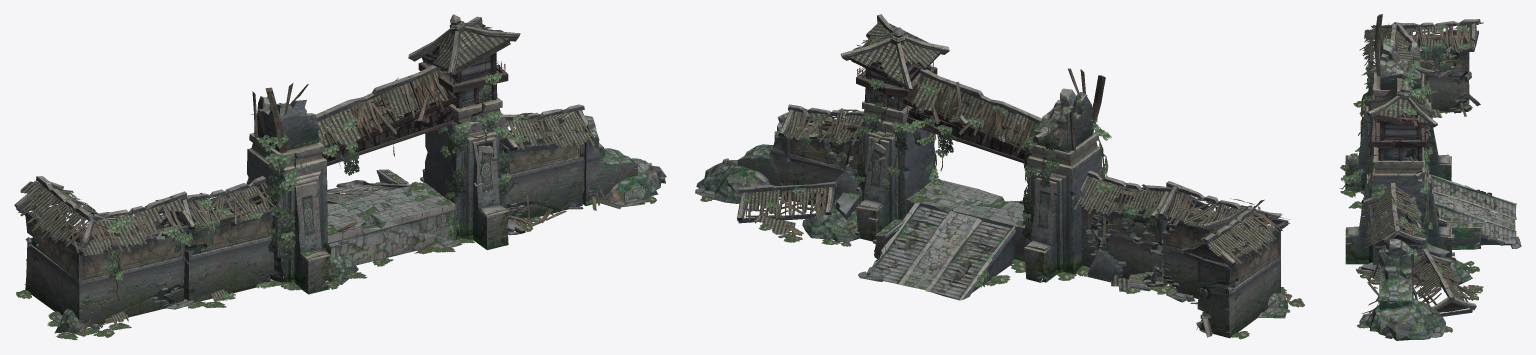
Rendered from Ruins_ALL.FBX.
The picture shows the model from 3 angles, left to right: view 1: azimuth 30°, elevation 25°; view 2: azimuth 150°, elevation 25°; view 3: azimuth 270°, elevation 25°; orthographic projection. The views are drawn at different scales.
Parts seen in each view (by area): view 1: Ruins_A, Ruins_B, Ruins_C; view 2: Ruins_A, Ruins_B, Ruins_C; view 3: Ruins_A, Ruins_B, Ruins_C.
Boxes of the visible parts, left/top/right/bottom form: Ruins_A: left=14, top=14, right=626, bottom=336; Ruins_B: left=50, top=113, right=666, bottom=336; Ruins_C: left=16, top=25, right=656, bottom=339; Ruins_A: left=737, top=14, right=1291, bottom=338; Ruins_B: left=695, top=110, right=1288, bottom=318; Ruins_C: left=700, top=29, right=1304, bottom=339; Ruins_A: left=1345, top=14, right=1514, bottom=316; Ruins_B: left=1359, top=55, right=1521, bottom=340; Ruins_C: left=1339, top=25, right=1491, bottom=332.
Size of the model in its own units: 2819 by 930 by 871.
